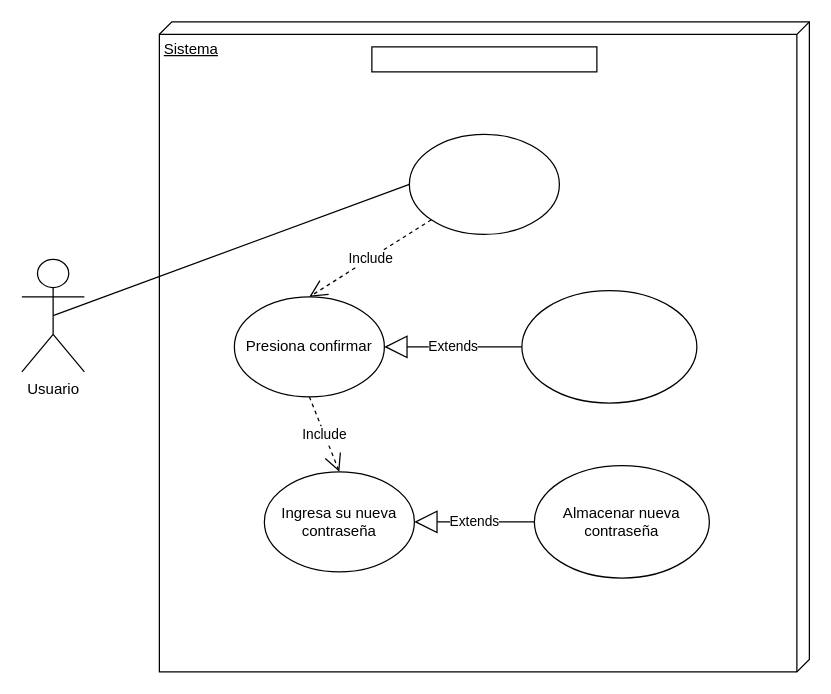
Some shapes in this 831 by 694 pixel diagram are drawn without their labels. Here are the shapes that lost their labels. From the top down, the centre of each, then its label:
At (484,59): "Recuperar contraseña".
At (483,183): "Ingresa correo electrónico en la casilla".
At (609,346): "Envía correo al usuario para el cambio de contraseña".
